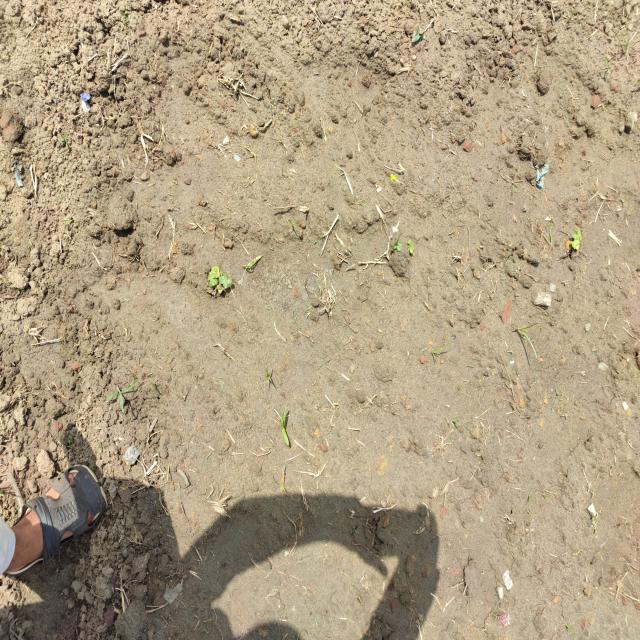seedling: (391, 241, 402, 252), (210, 266, 218, 278), (407, 240, 414, 253), (209, 278, 218, 288), (219, 274, 228, 284), (571, 239, 580, 249), (572, 229, 581, 239), (223, 279, 232, 288), (207, 273, 216, 280), (575, 236, 582, 241)
